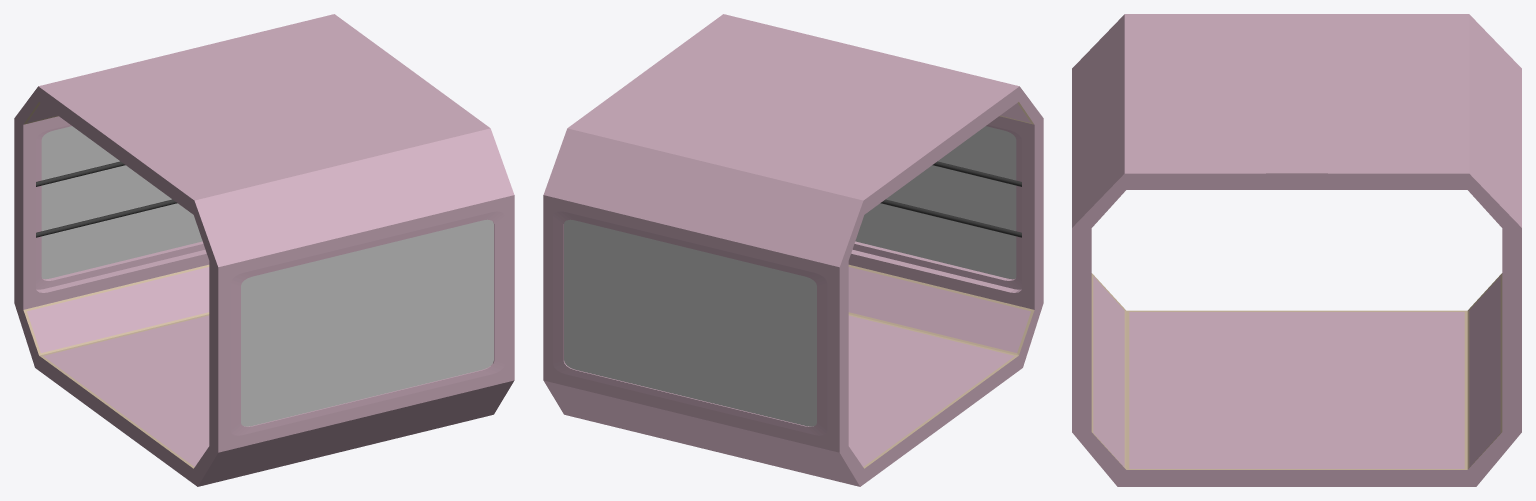
The model's file is hallwaytest4.fbx.
3 views of the same model, side by side, from view 1: azimuth 30°, elevation 25°; view 2: azimuth 150°, elevation 25°; view 3: azimuth 270°, elevation 25° (orthographic). The views are drawn at different scales.
Parts seen in each view (by area): view 1: Cube.010; view 2: Cube.010; view 3: Cube.010.
Part boxes in pixels (left/top/right/bottom): Cube.010: left=14, top=14, right=514, bottom=486; Cube.010: left=543, top=14, right=1043, bottom=486; Cube.010: left=1072, top=14, right=1521, bottom=486.
Size of the model in its own units: 10.91 by 10 by 13.
